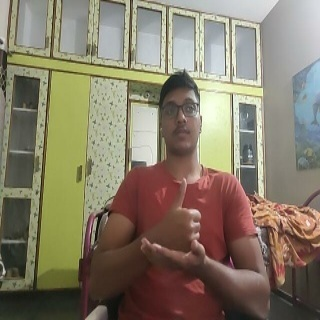Face: (158, 71, 204, 156)
Help: (138, 176, 211, 276)
